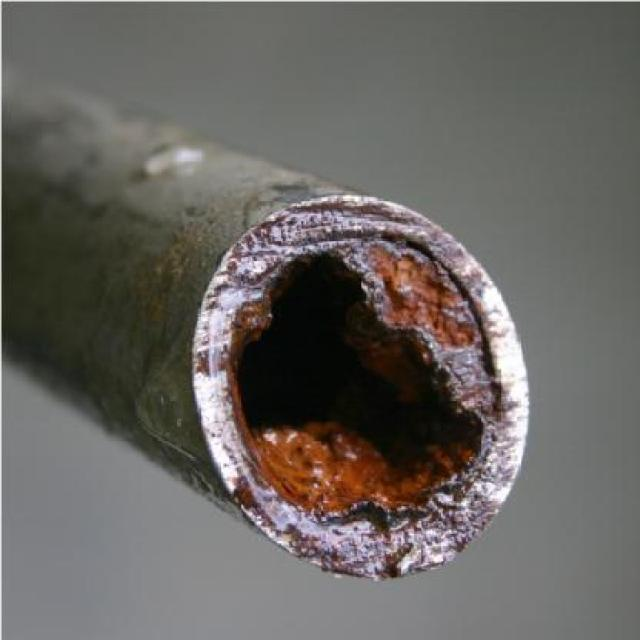corrosion: (0, 54, 534, 584)
